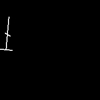double_crochet: (0, 19, 11, 50)
